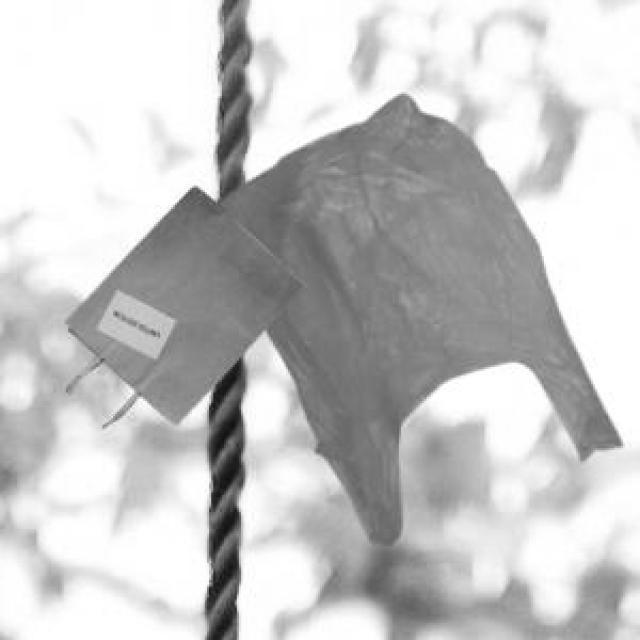paper: (62, 184, 301, 420)
